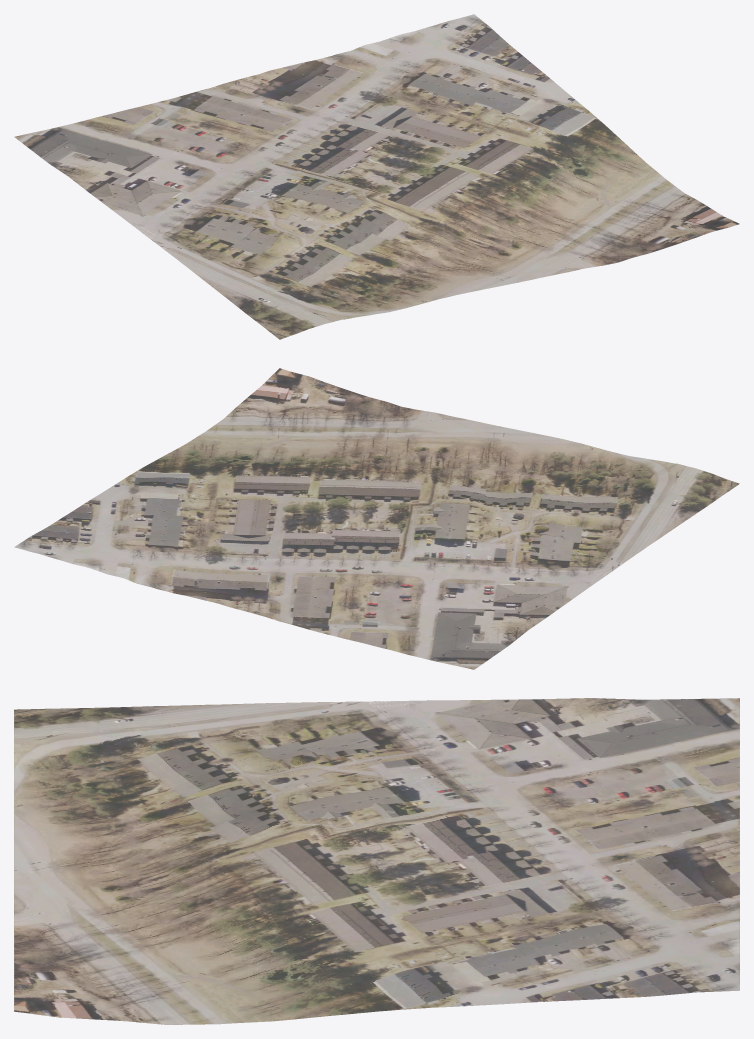
File: CM_Terrain_24492302_6817132.fbx
3 renders of one model, top to bottom at view 1: azimuth 30°, elevation 25°; view 2: azimuth 150°, elevation 25°; view 3: azimuth 270°, elevation 25°, orthographic. The views are drawn at different scales.
Visible parts, largest first — view 1: CM_Terrain_24492302_6817132_LOD0; view 2: CM_Terrain_24492302_6817132_LOD0; view 3: CM_Terrain_24492302_6817132_LOD0.
Part boxes in pixels (x1,y1,x2,y2): CM_Terrain_24492302_6817132_LOD0: (14,14,739,339); CM_Terrain_24492302_6817132_LOD0: (14,368,739,669); CM_Terrain_24492302_6817132_LOD0: (14,698,739,1024).
Size of what is drawn, in the model's own units: 205 by 10.82 by 205.
